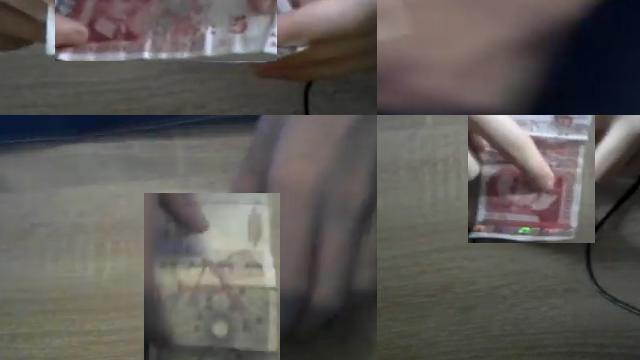10leva: (377, 0, 604, 115), (145, 193, 280, 360)
5leva: (468, 115, 595, 243), (55, 0, 268, 61)
